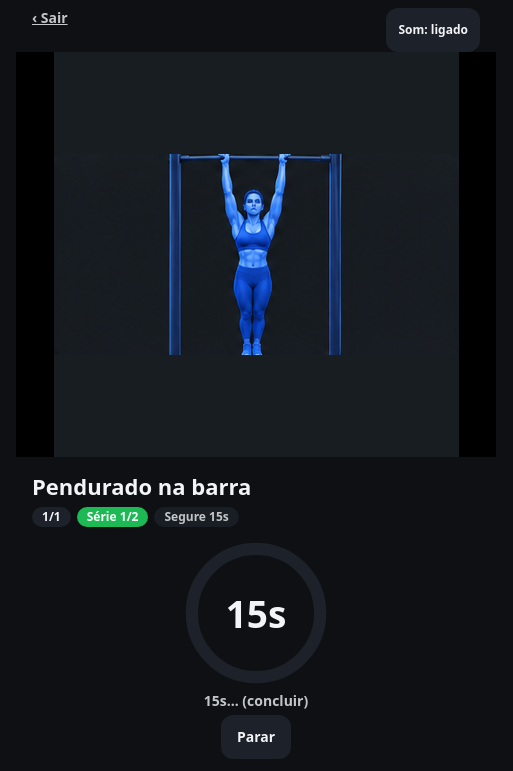
Test case: RunScreen hold: toque no timer rodando conclui (não reinicia) › último exercício: sem descanso, próxima série auto-inicia e encerra com parabéns
Expected: the text "15s… (concluir)" is shown, [204,690,308,710]
Step 1. Click the button named "(concluir)" → (256, 612), box [182,538,330,686]
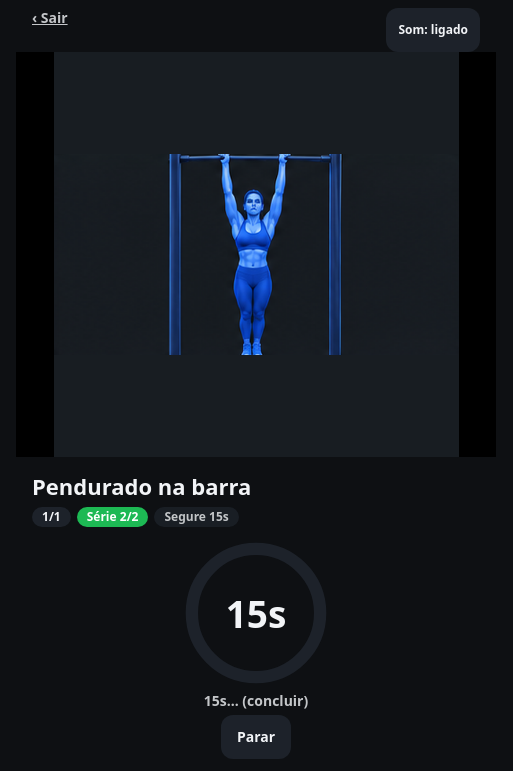
Result: the text "Série 2/2" is shown at [77,506,148,526]
Step 2. Click the button named "(concluir)" → (256, 612), box [182,538,330,686]
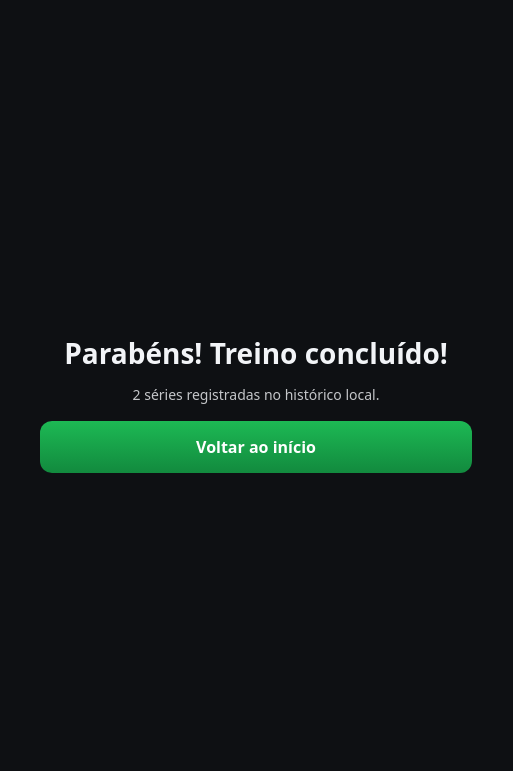
Result: the heading "Parabéns! Treino concluído!" is shown at [64,337,448,369]
